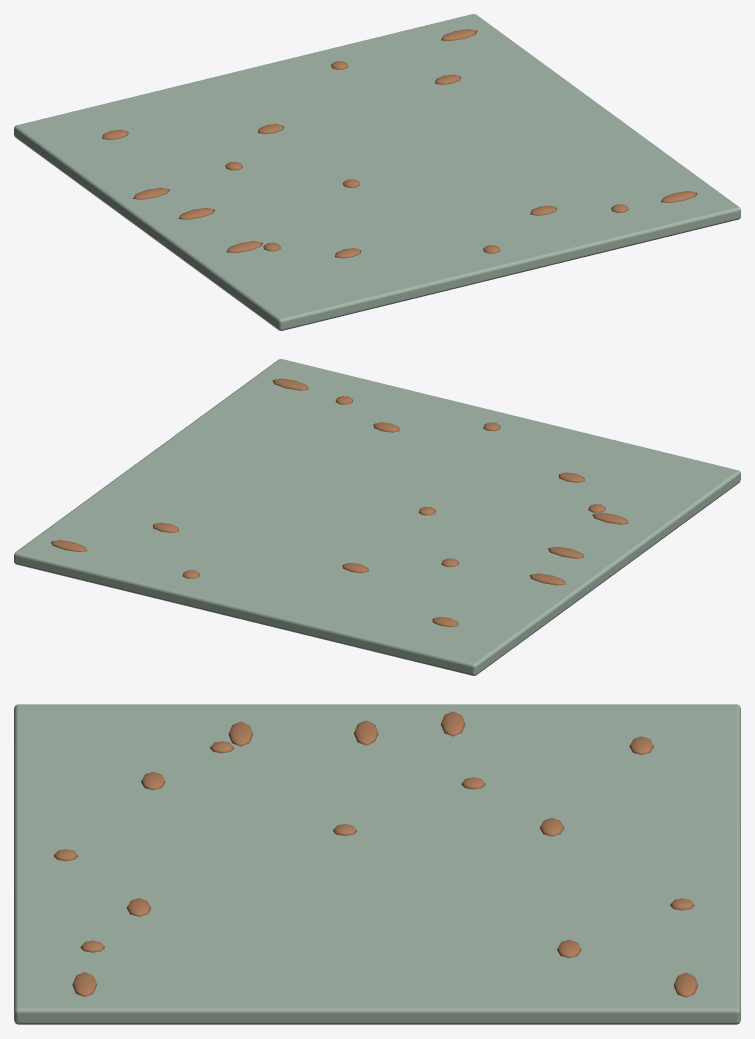
File: diving-and-underwater-salvage-seafloor-display-base-d2314242__28463.glb
3 views of the same model, one above another, from view 1: azimuth 30°, elevation 25°; view 2: azimuth 150°, elevation 25°; view 3: azimuth 270°, elevation 25° (orthographic). The views are drawn at different scales.
Visible parts, largest first — view 1: seafloor-display-base-sand, seafloor-display-base-rust; view 2: seafloor-display-base-sand, seafloor-display-base-rust; view 3: seafloor-display-base-sand, seafloor-display-base-rust.
Part boxes in pixels (x1,y1,x2,y2): seafloor-display-base-sand: (14,14,740,330); seafloor-display-base-rust: (102,29,697,258); seafloor-display-base-sand: (14,359,740,675); seafloor-display-base-rust: (50,378,628,627); seafloor-display-base-sand: (14,704,740,1024); seafloor-display-base-rust: (53,711,698,997).
Size of the model in its own units: 7 by 0.2302 by 7.
